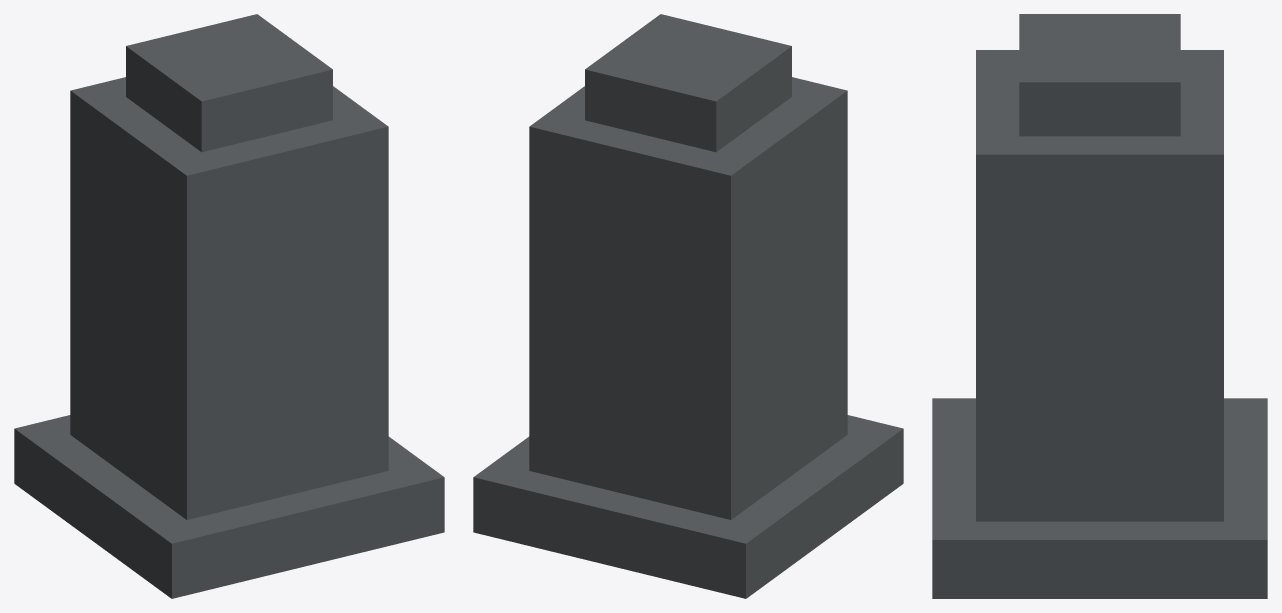
Rendered from PedestalSmall.glb.
3 views of the same model, side by side, from view 1: azimuth 30°, elevation 25°; view 2: azimuth 150°, elevation 25°; view 3: azimuth 270°, elevation 25° (orthographic). The views are drawn at different scales.
Visible parts, largest first — view 1: Pedestal; view 2: Pedestal; view 3: Pedestal.
Part boxes in pixels (x1,y1,x2,y2): Pedestal: [14, 14, 444, 598]; Pedestal: [473, 14, 903, 598]; Pedestal: [932, 14, 1267, 598].
Size of the model in its own units: 0.5 by 0.789 by 0.5.
Materials: 1 (1 with a texture image).
